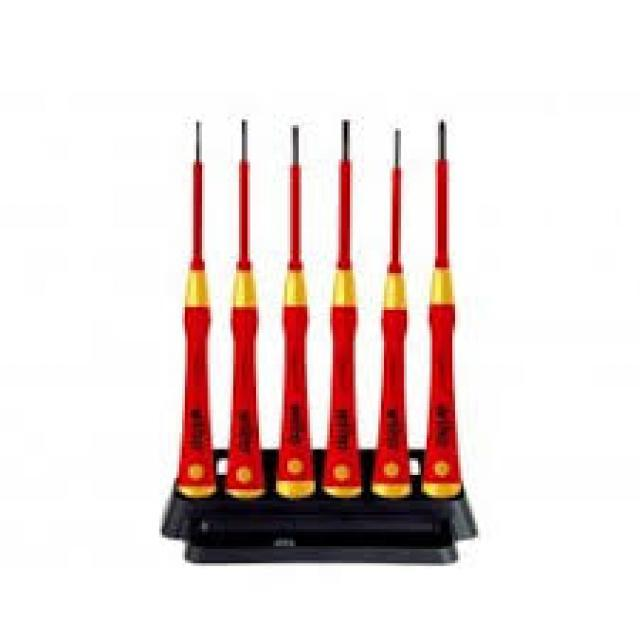screwdriver: (366, 118, 420, 505), (167, 118, 220, 505), (220, 115, 272, 502), (417, 118, 468, 505), (272, 116, 321, 504), (320, 116, 368, 504)
